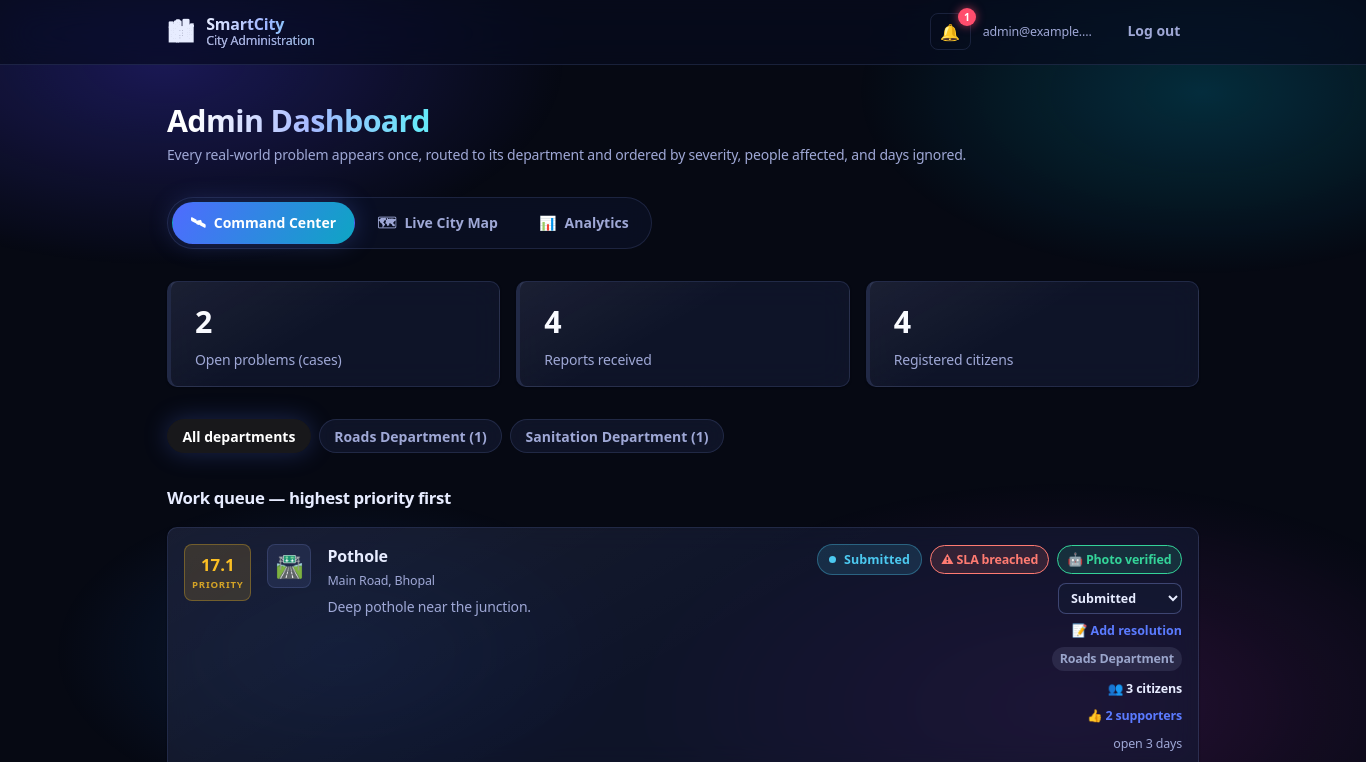
it: AdminDashboard › shows the unread notification count and marks one as read
The width and height of the screenshot is (1366, 762).
Click the button named "1 unread notifications" at (950, 32), box top-left (930, 13), bottom-right (971, 50)
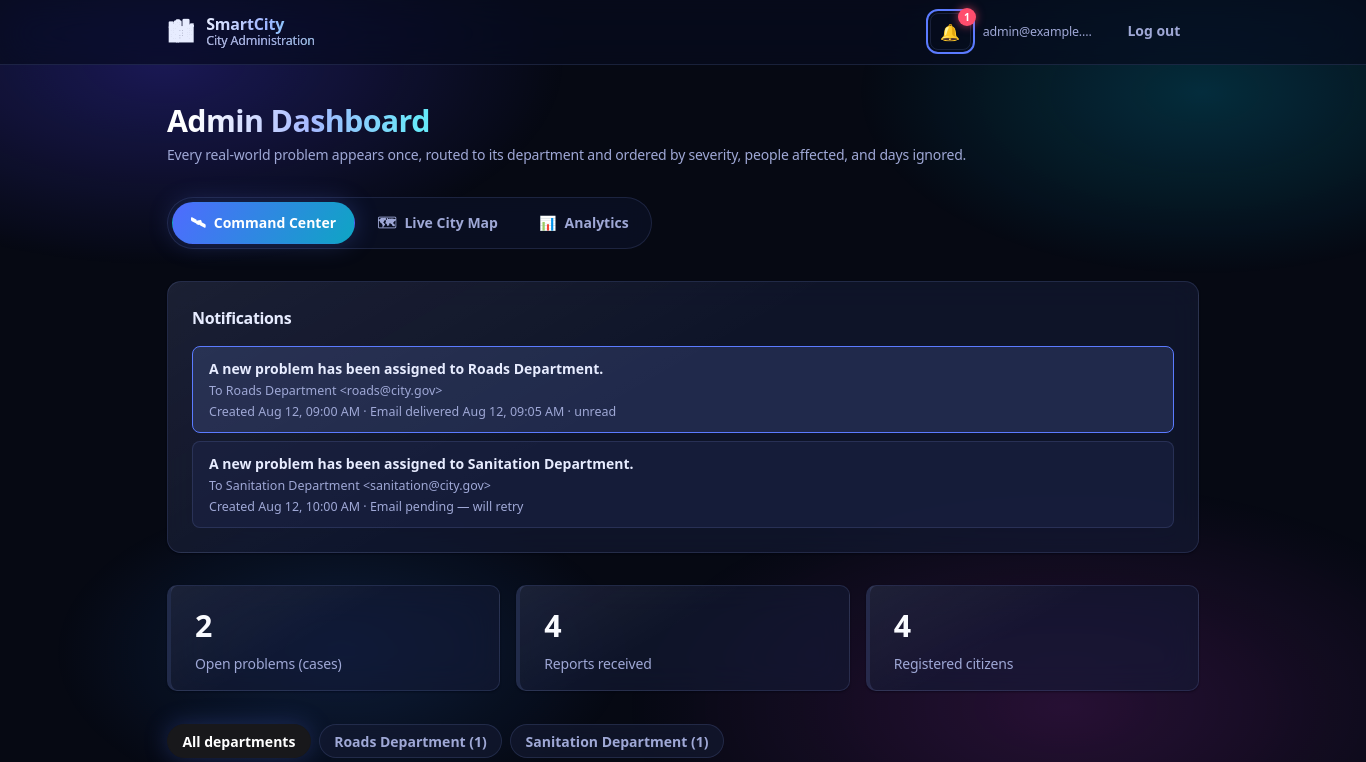
Expected: the button "assigned to Roads Department" shows "unread"
Click the button "assigned to Roads Department" at (406, 369), box top-left (192, 346), bottom-right (1174, 434)
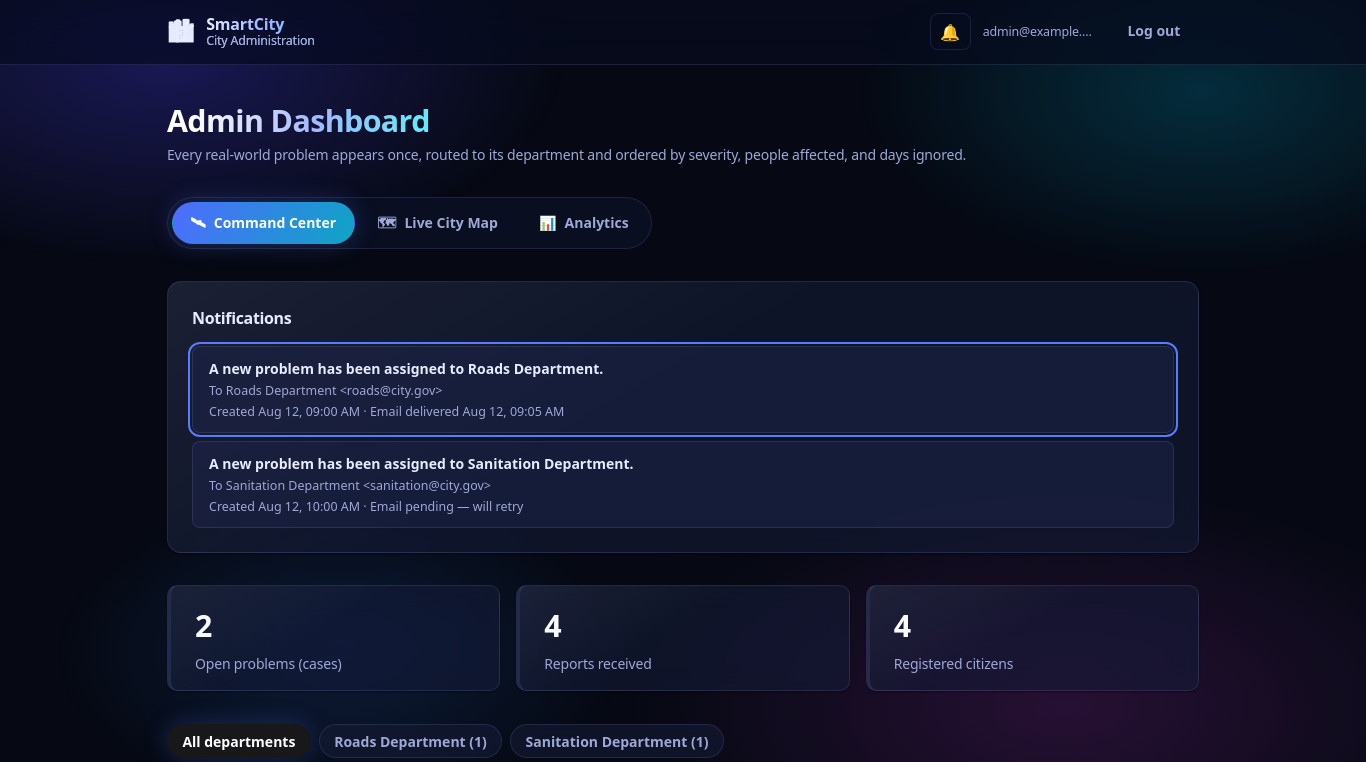
Expected: the button "assigned to Roads Department" no longer shows "unread", top-left (192, 346), bottom-right (1174, 434)
